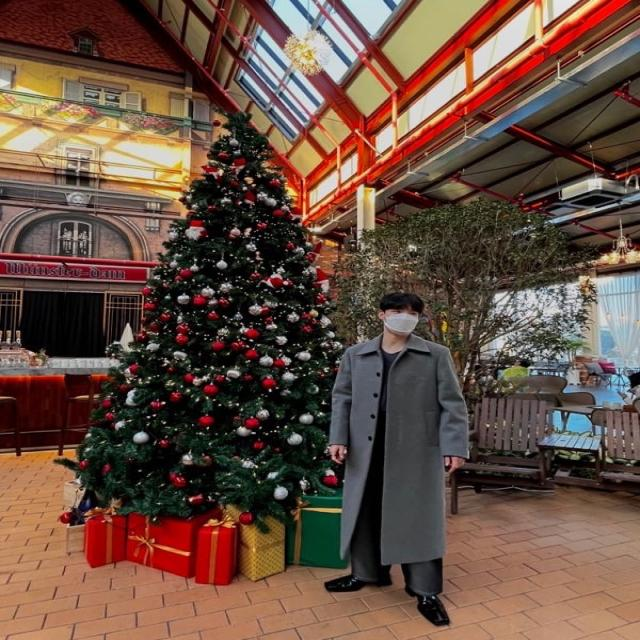coat: (325, 328, 468, 564)
denimpants: (350, 446, 442, 597)
